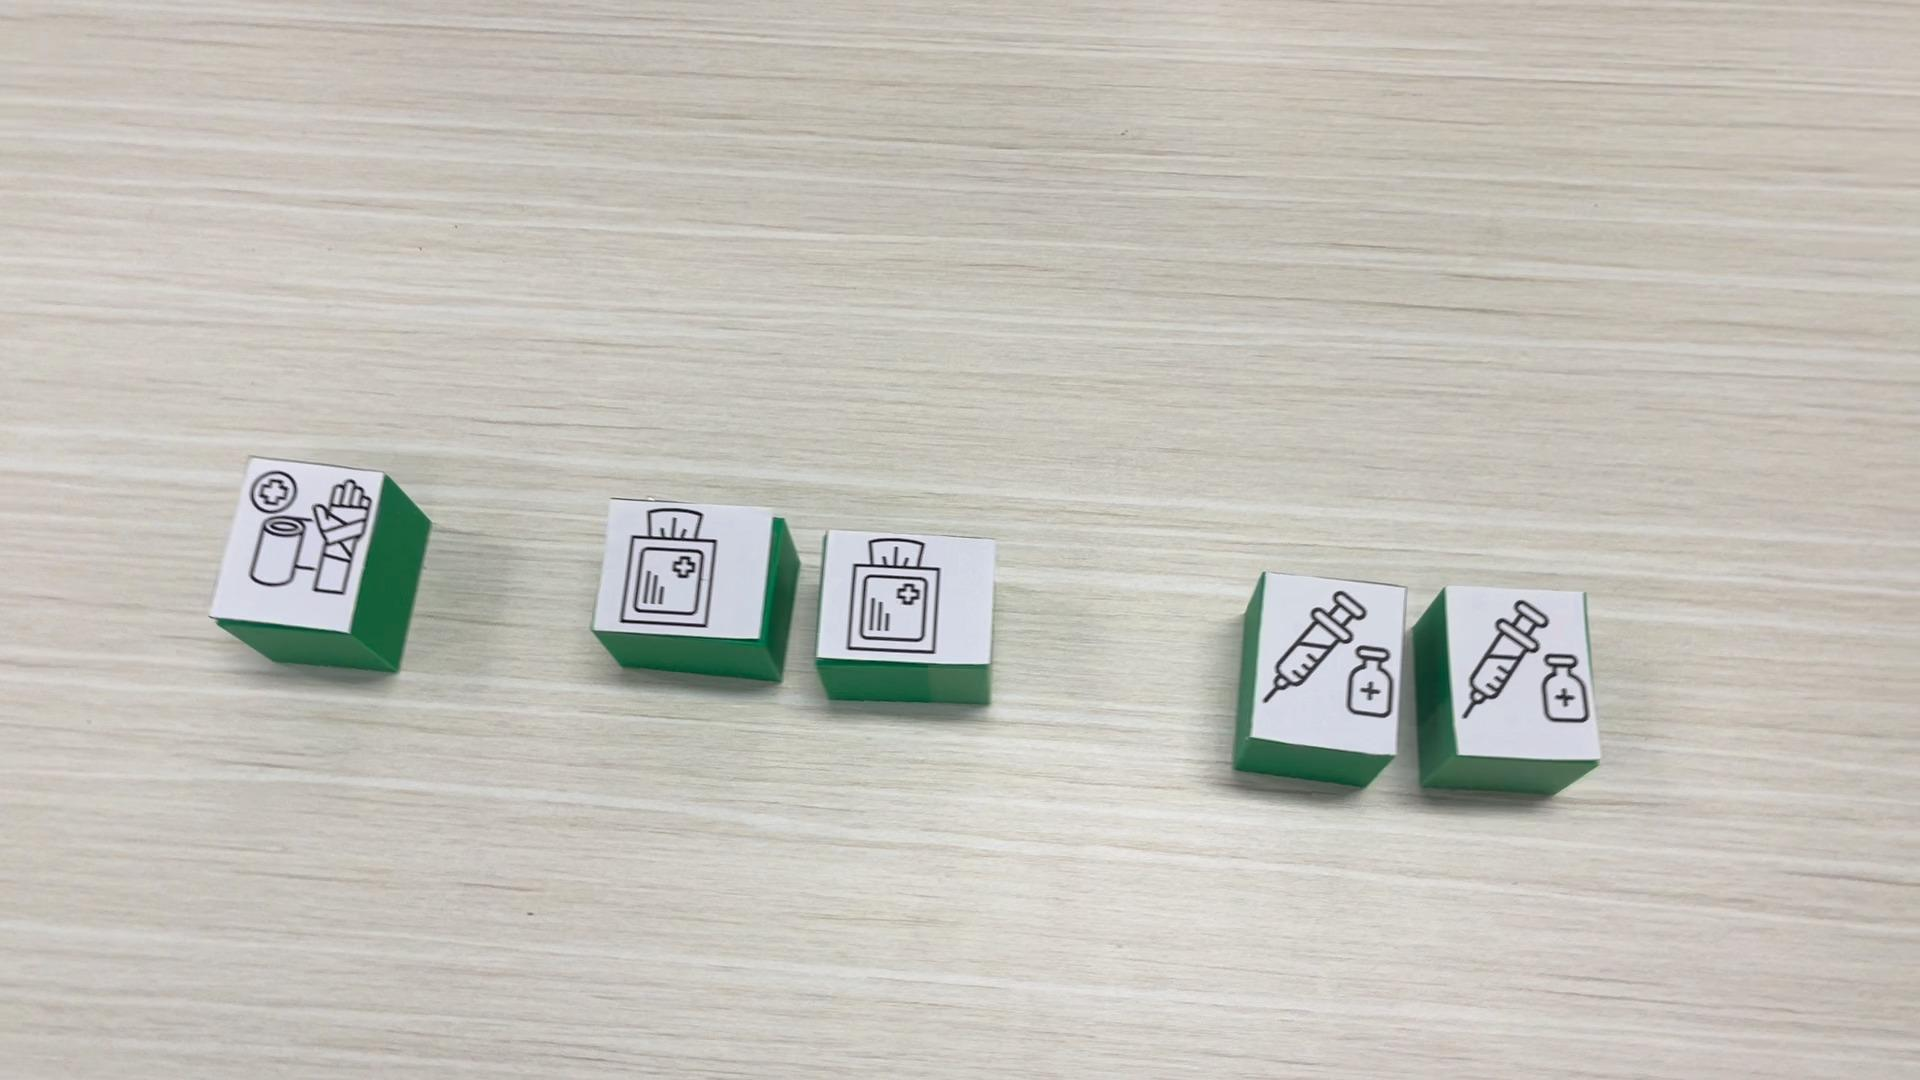Bandages: (208, 454, 431, 673)
Gauze: (587, 493, 802, 682), (819, 526, 997, 707)
antiseptic cream: (1233, 570, 1428, 789), (1414, 583, 1604, 796)
